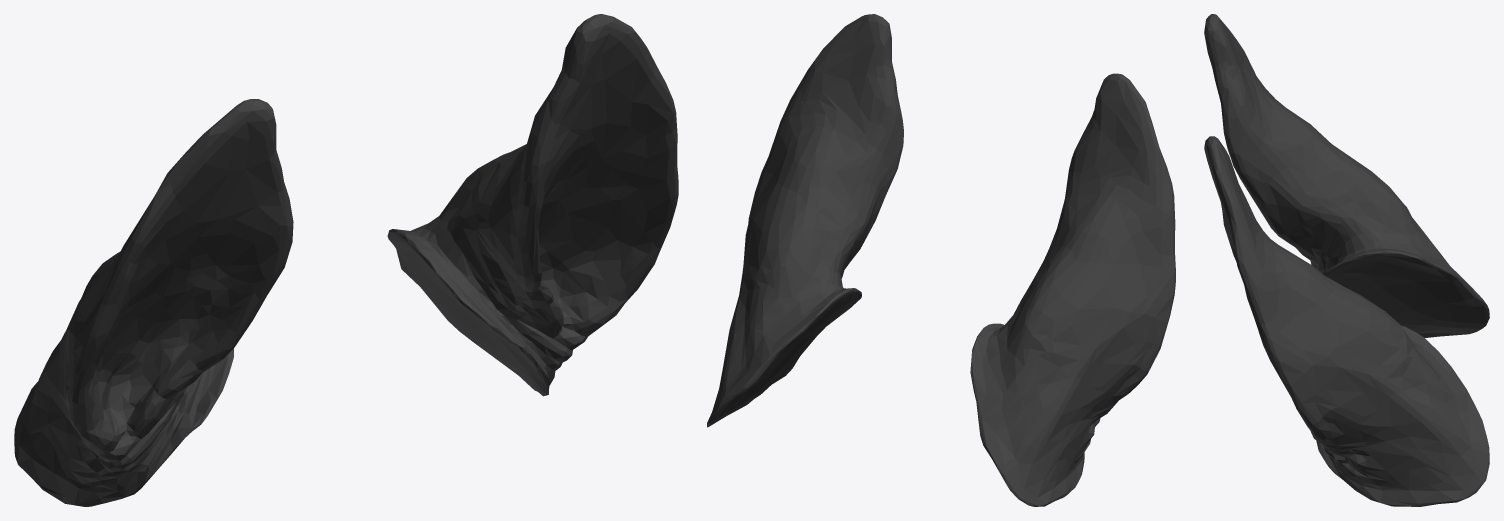
The model's file is details_head_ears.glb.
3 renders of one model, left to right at view 1: azimuth 30°, elevation 25°; view 2: azimuth 150°, elevation 25°; view 3: azimuth 270°, elevation 25°, orthographic. The views are drawn at different scales.
Visible parts, largest first — view 1: details_head_ears; view 2: details_head_ears; view 3: details_head_ears.
Boxes of the visible parts, x1,y1,x2,y2 form: details_head_ears: (14, 14, 678, 506); details_head_ears: (707, 14, 1175, 506); details_head_ears: (1204, 14, 1489, 506).
Size of the model in its own units: 0.00305 by 0.00235 by 0.00176.
1 material, 1 textured.
